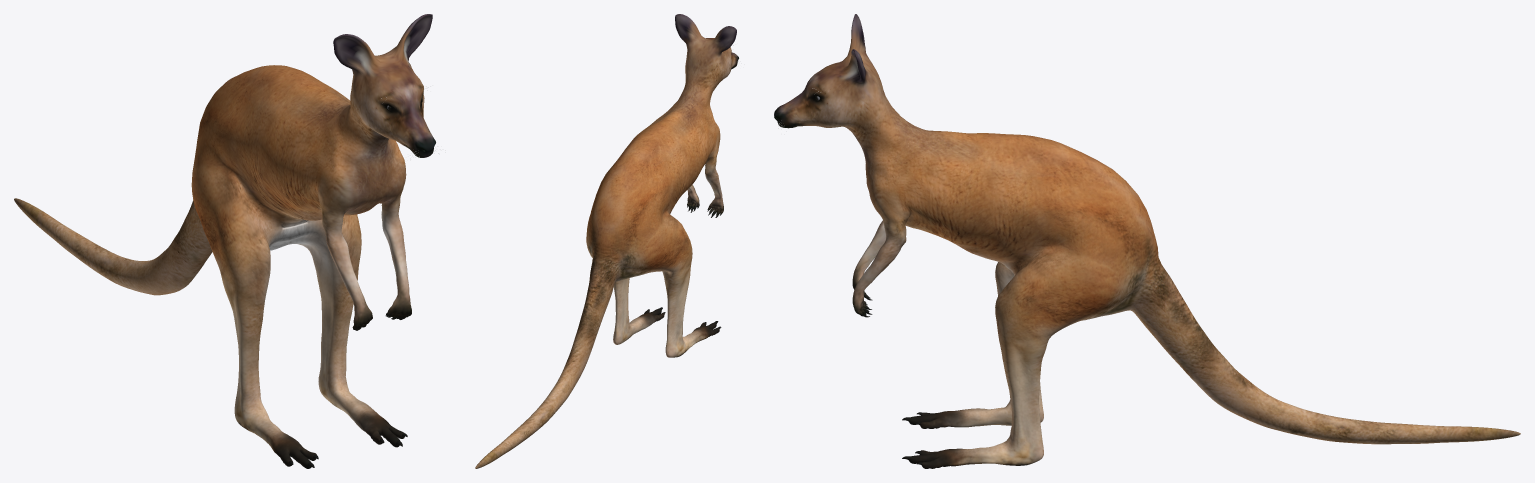
Rendered from kangarooMother.gltf.
The picture shows the model from 3 angles, left to right: view 1: azimuth 30°, elevation 25°; view 2: azimuth 150°, elevation 25°; view 3: azimuth 270°, elevation 25°; orthographic projection. The views are drawn at different scales.
Visible parts, largest first — view 1: Kangaroo_42266.Shape; view 2: Kangaroo_42266.Shape; view 3: Kangaroo_42266.Shape.
Part boxes in pixels (bbox=[...]): Kangaroo_42266.Shape: bbox=[14, 14, 445, 468]; Kangaroo_42266.Shape: bbox=[475, 14, 741, 468]; Kangaroo_42266.Shape: bbox=[774, 14, 1520, 468].
Bounding box in the file's own units: 0.4377 × 1.46 × 2.4.
Materials: 5 (4 with a texture image).
